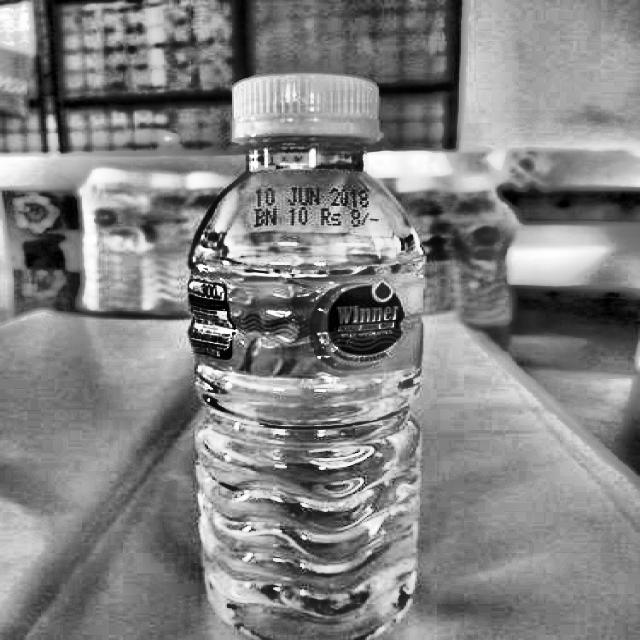waterbottle: (179, 60, 438, 640)
